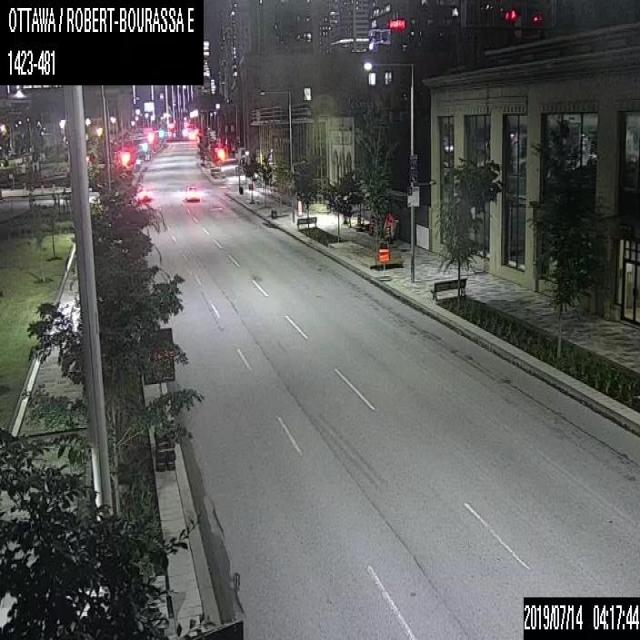construction: (138, 328, 175, 470), (378, 246, 389, 278), (383, 213, 392, 239), (296, 199, 304, 216), (355, 213, 361, 231)
vehicle: (186, 185, 199, 203), (143, 188, 151, 200)
